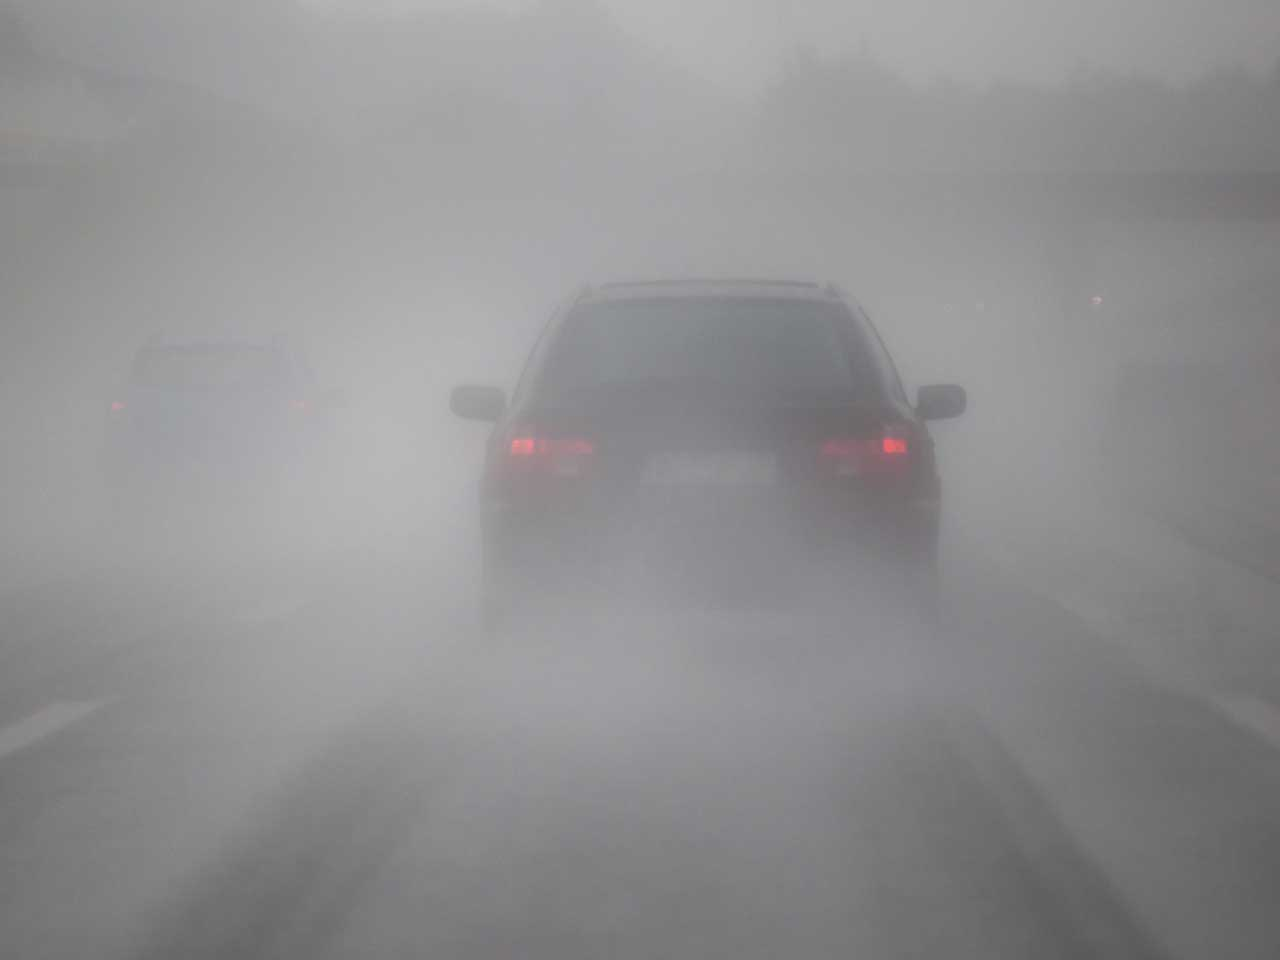car: (452, 275, 966, 721), (107, 335, 352, 538)
